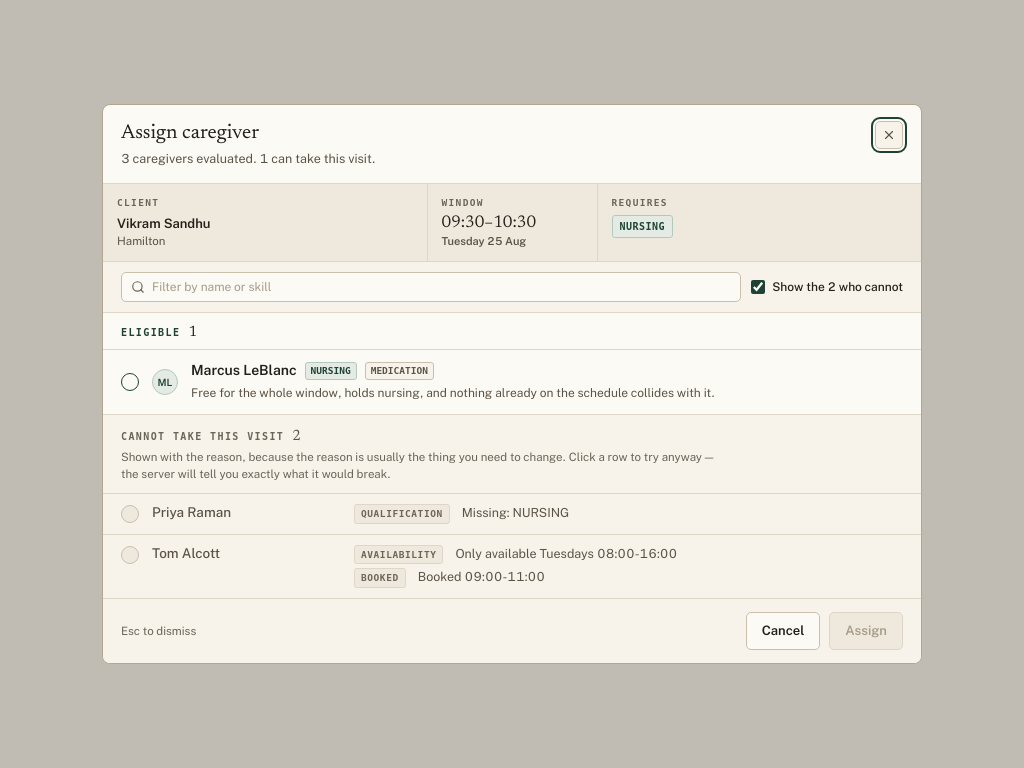
Test: assign flow › surfaces the server's refusal when a blocked caregiver is tried anyway
The width and height of the screenshot is (1024, 768).
Click the button "Priya Raman QUALIFICATION Missing: NURSING". click: coordinates (512, 515)
box: [103,494,921,535]
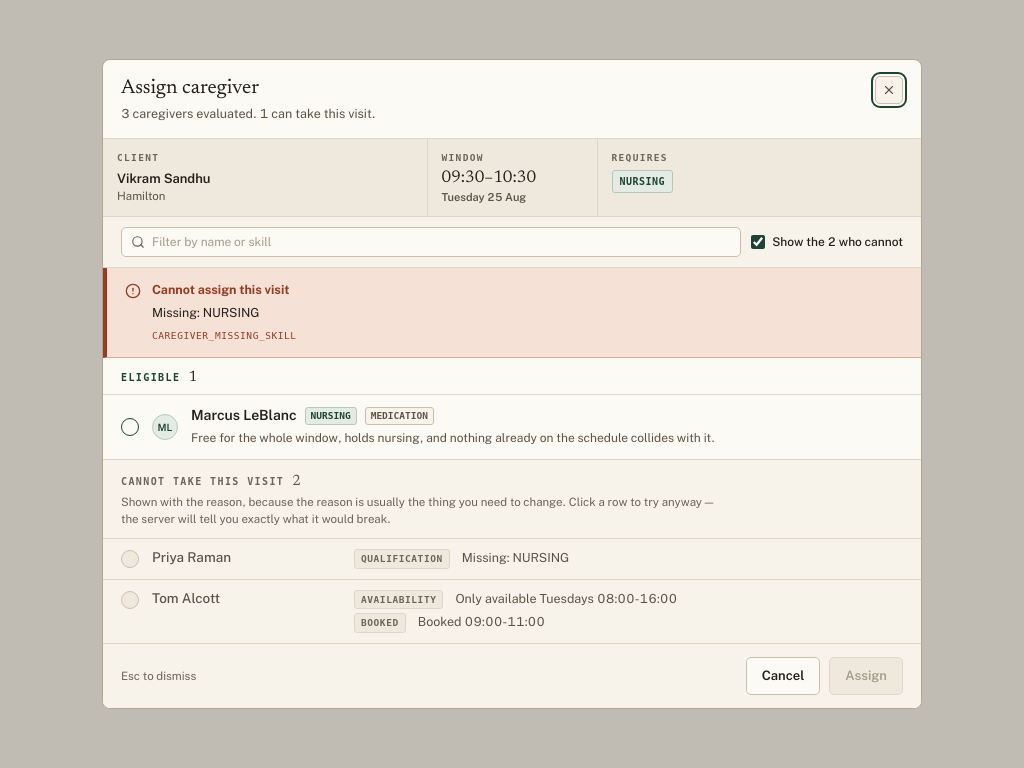
expect the message shows "Cannot assign this visit": met, box [152,282,290,298]
expect the message shows "Missing: NURSING": met, box [152,305,260,320]
expect the message shows "CAREGIVER_MISSING_SKILL": met, box [152,330,297,341]
